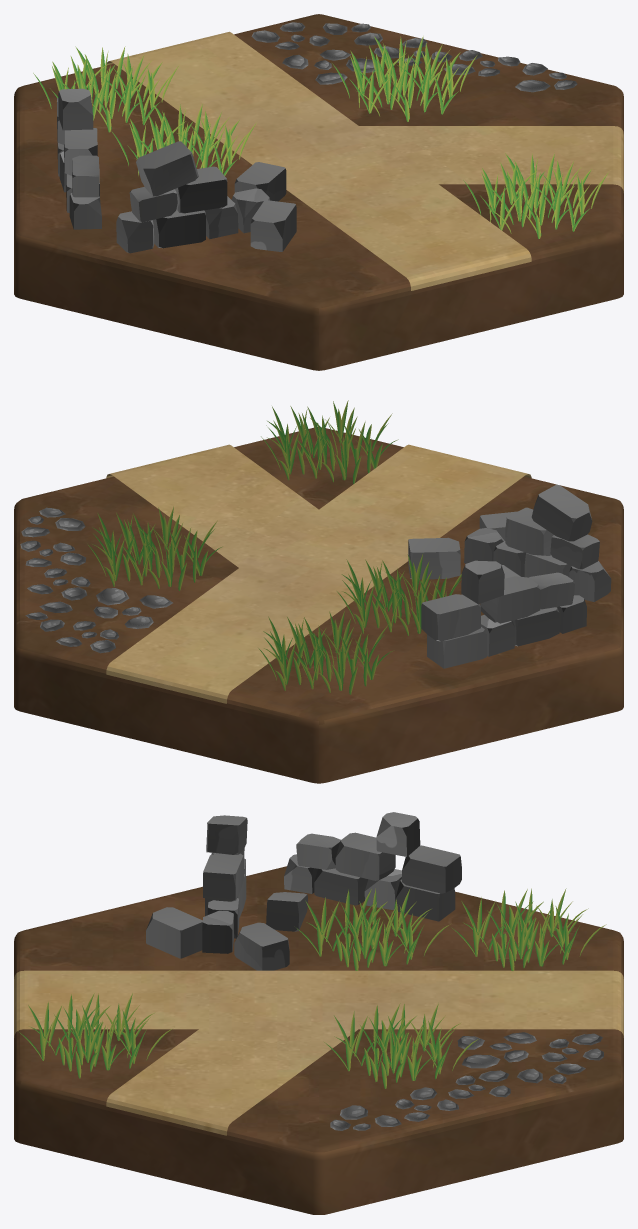
The model's file is Road_TutType5.fbx.
3 renders of one model, top to bottom at view 1: azimuth 30°, elevation 25°; view 2: azimuth 150°, elevation 25°; view 3: azimuth 270°, elevation 25°, orthographic.
Parts seen in each view (by area): view 1: Object011; view 2: Object011; view 3: Object011.
Boxes of the visible parts, x1,y1,x2,y2 form: Object011: (14,14,623,370); Object011: (14,400,623,783); Object011: (14,812,623,1214).
Size of the model in its own units: 99.25 by 24.28 by 86.6.
